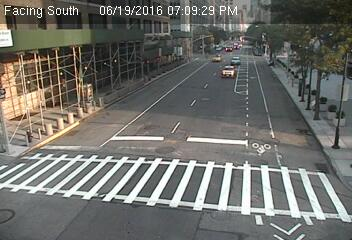neg: (246, 111, 284, 161), (106, 104, 140, 150), (41, 135, 75, 181), (193, 159, 223, 199), (162, 32, 191, 71), (164, 82, 191, 118), (217, 71, 242, 105), (308, 157, 333, 190), (62, 69, 86, 102), (276, 186, 300, 218), (304, 95, 325, 124), (131, 49, 150, 75), (156, 156, 174, 180), (319, 44, 335, 65)
